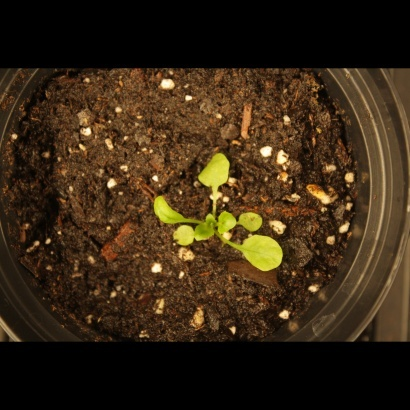leaf: (235, 233, 289, 274), (194, 152, 235, 193), (152, 193, 189, 223), (215, 207, 238, 239), (239, 211, 266, 234), (171, 225, 194, 248), (193, 222, 216, 245)
